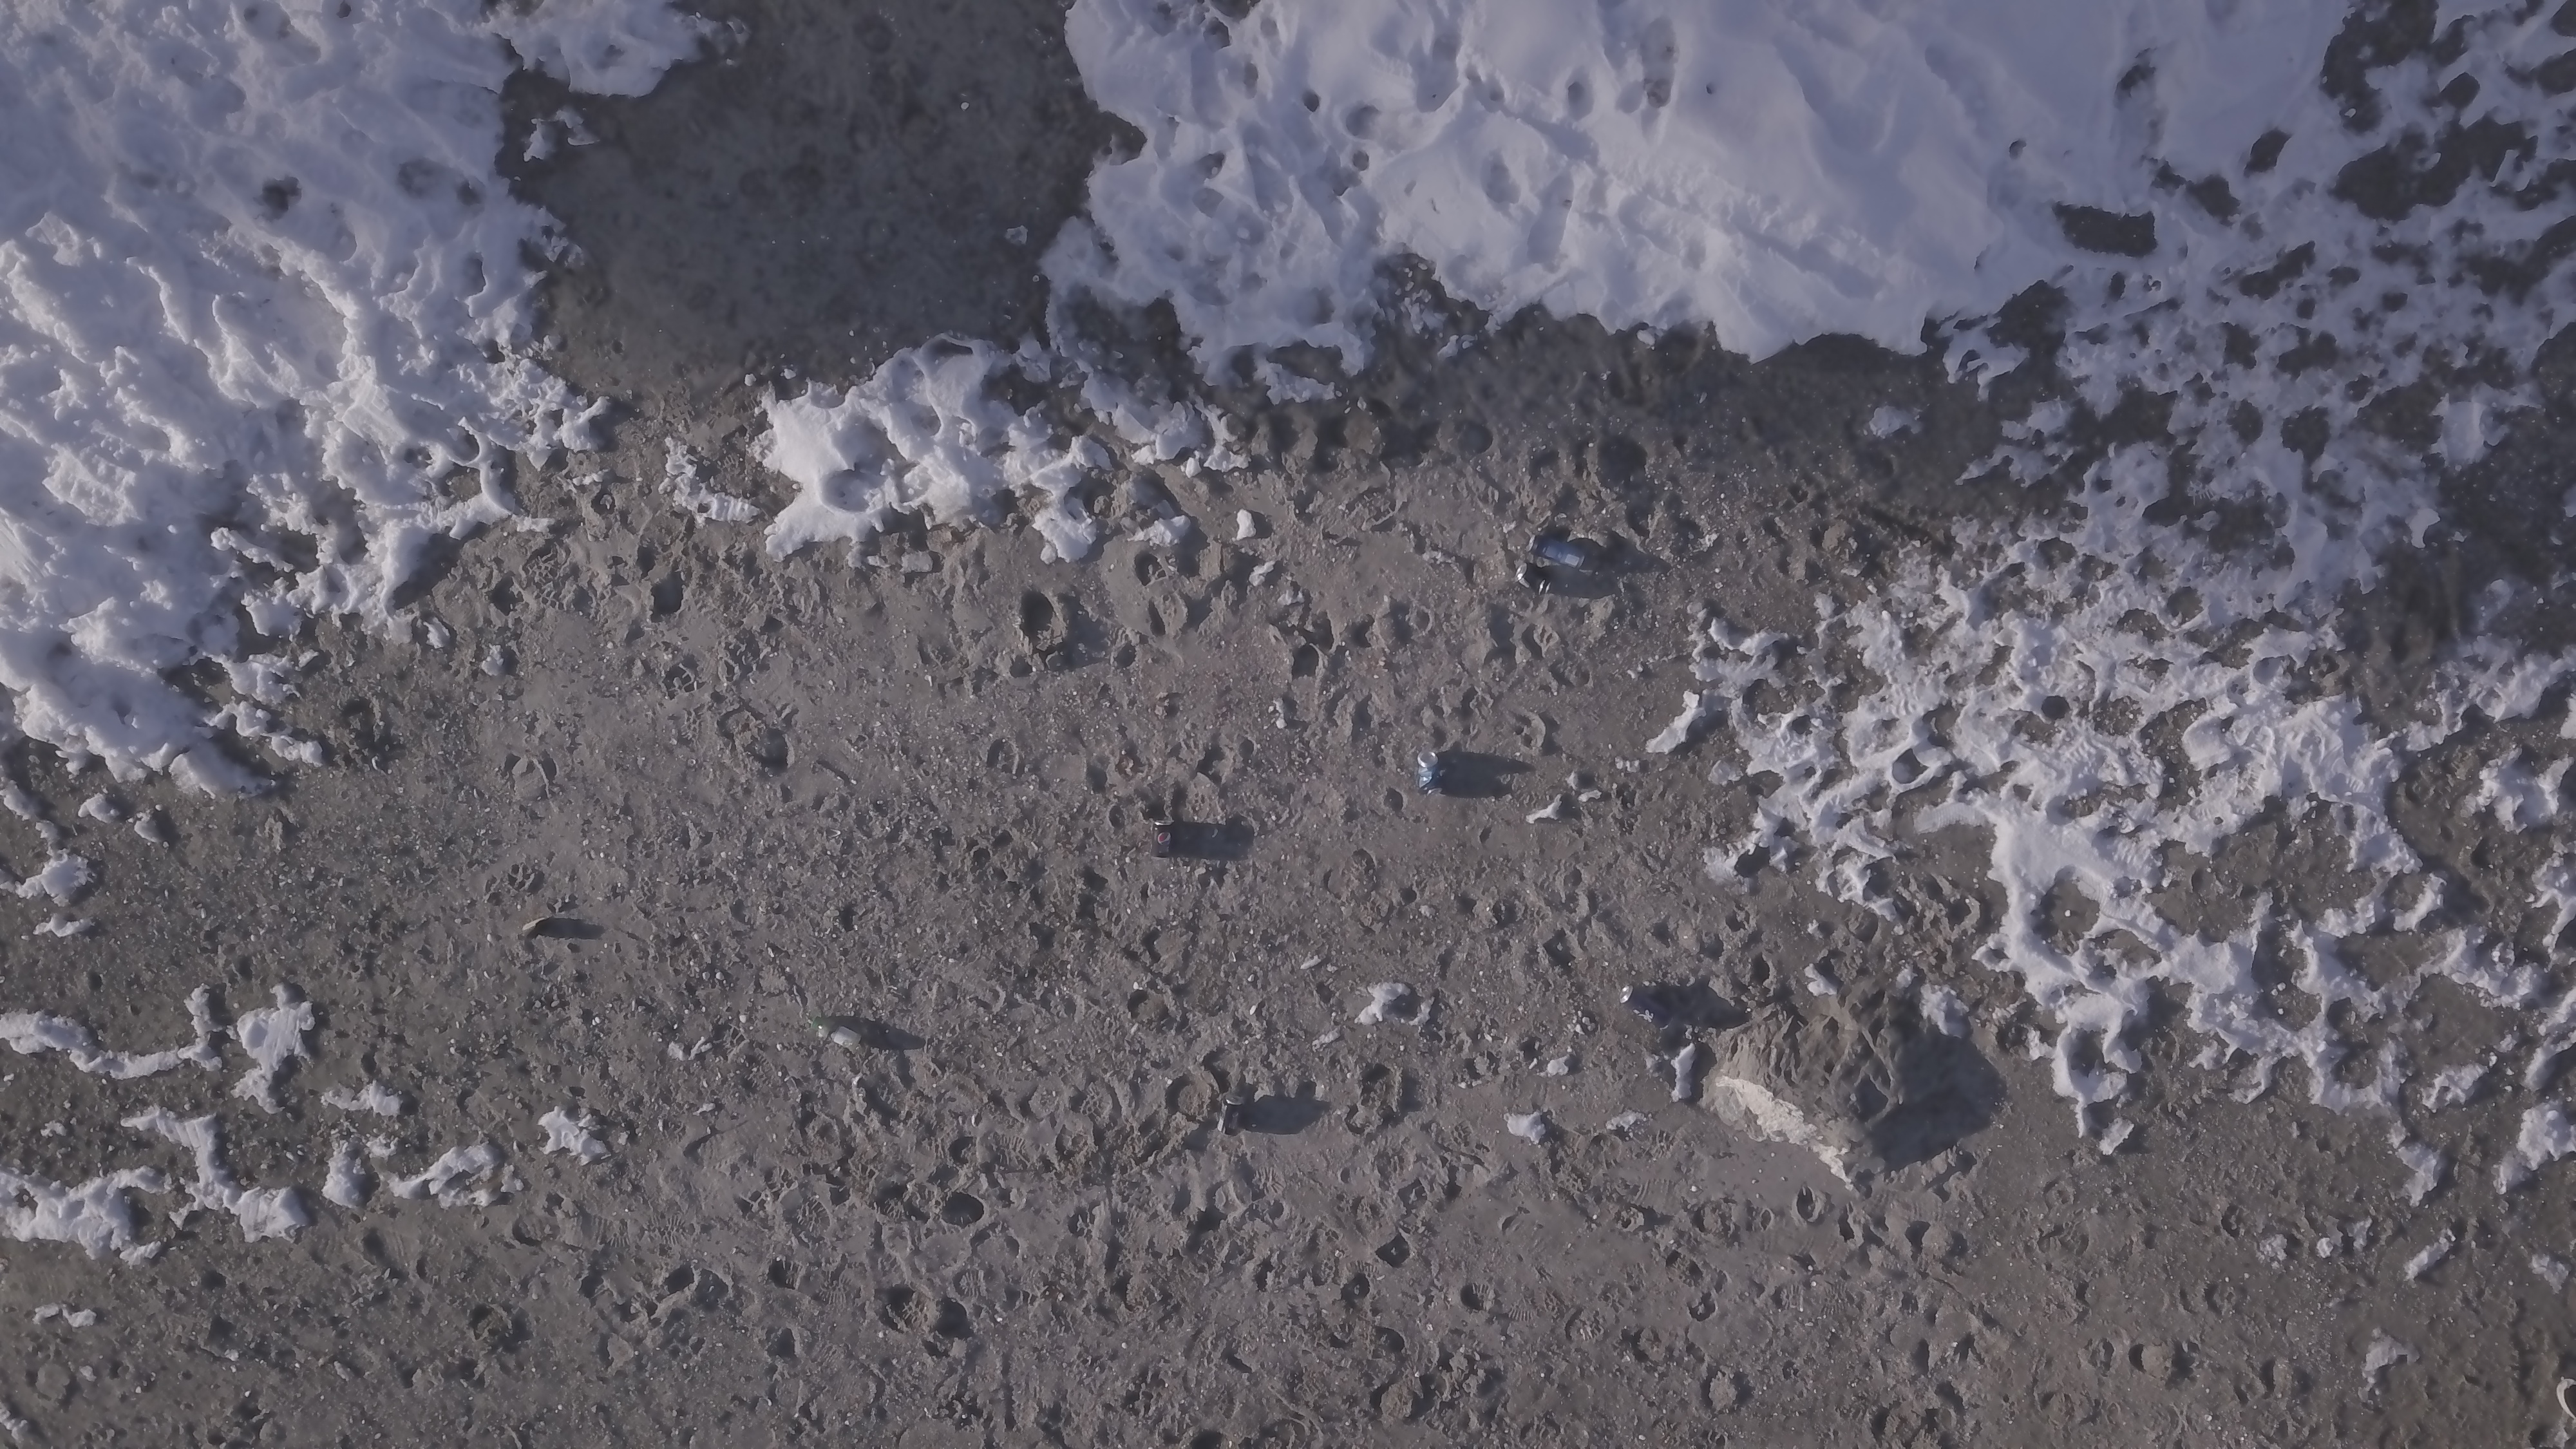Can: (1621, 982, 1674, 1031), (1529, 536, 1585, 571), (1514, 564, 1552, 600), (1217, 1092, 1246, 1136), (1148, 821, 1177, 860), (1417, 754, 1442, 798)
PlasticBottle: (814, 1017, 863, 1054)
